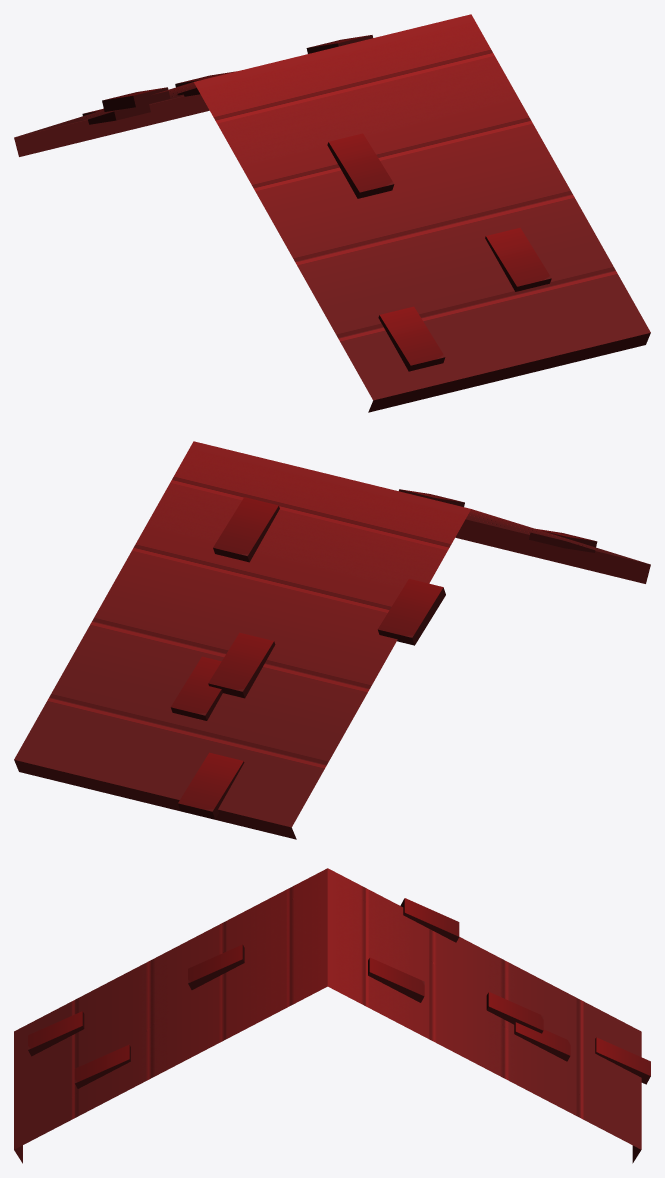
Rendered from MESH_Grand_Toit_02.fbx.
3 views of the same model, one above another, from view 1: azimuth 30°, elevation 25°; view 2: azimuth 150°, elevation 25°; view 3: azimuth 270°, elevation 25° (orthographic). The views are drawn at different scales.
Parts seen in each view (by area): view 1: MESH_Grand_Toit_02; view 2: MESH_Grand_Toit_02; view 3: MESH_Grand_Toit_02.
Part boxes in pixels (x1=…): MESH_Grand_Toit_02: x1=14, y1=14, x2=650, y2=412; MESH_Grand_Toit_02: x1=14, y1=441, x2=650, y2=839; MESH_Grand_Toit_02: x1=14, y1=868, x2=650, y2=1163.
Bounding box in the file's own units: 3.18 × 2.09 × 6.82.
